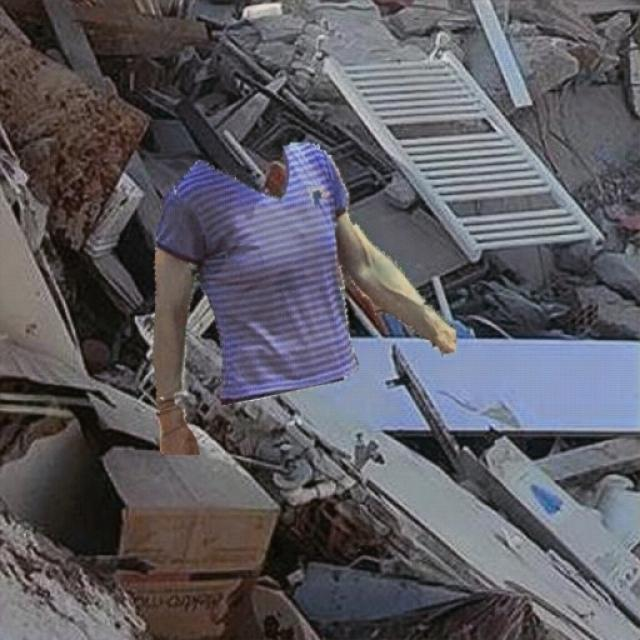Person in Rubble: (151, 142, 455, 454)
